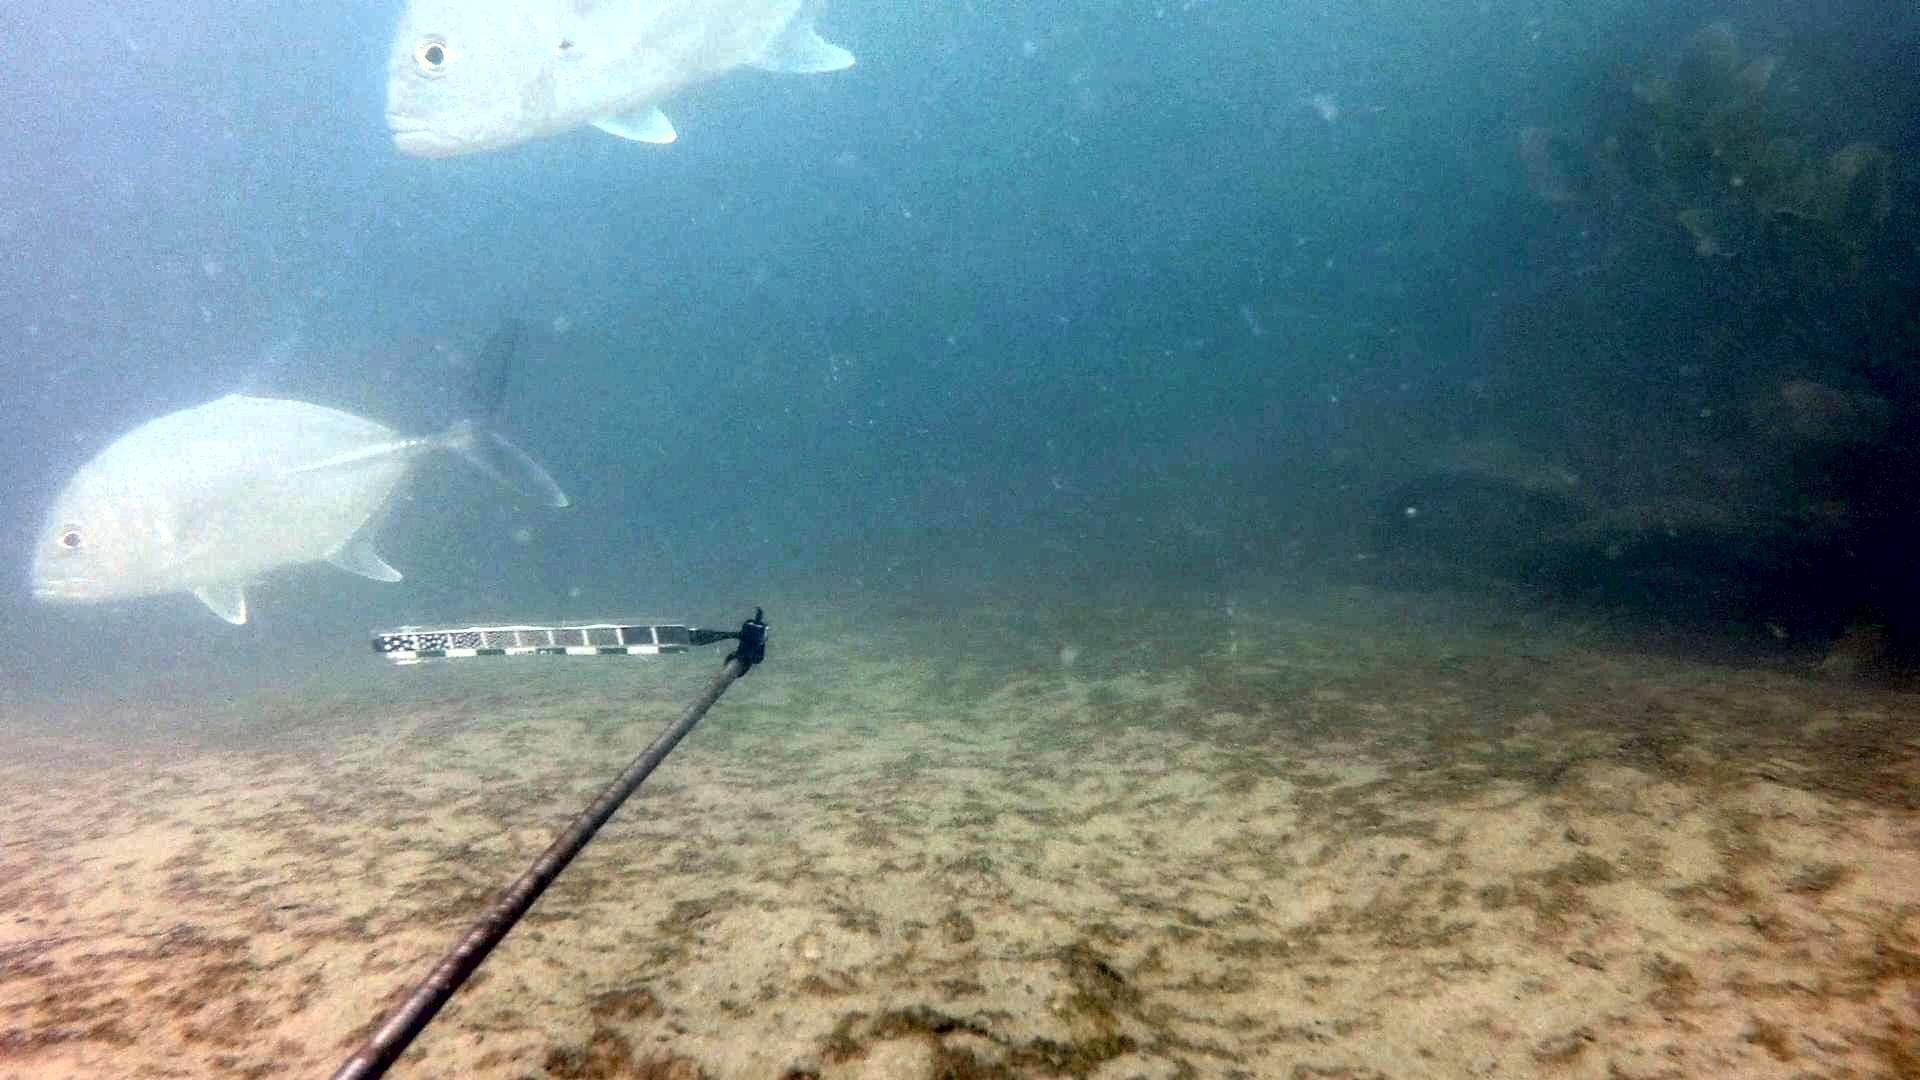caranx: (20, 313, 608, 642), (378, 0, 864, 170)
